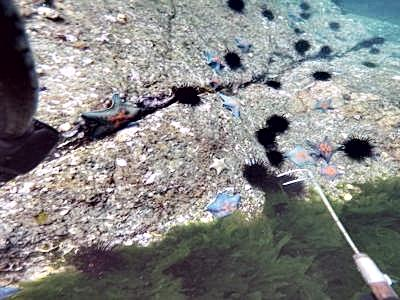urchin: (71, 244, 120, 277), (342, 133, 367, 160), (242, 160, 266, 185), (171, 83, 198, 103), (254, 128, 272, 145), (266, 148, 284, 165), (268, 112, 284, 130), (223, 51, 238, 65), (293, 38, 309, 51), (314, 69, 329, 80), (227, 2, 243, 10), (317, 44, 330, 52)
